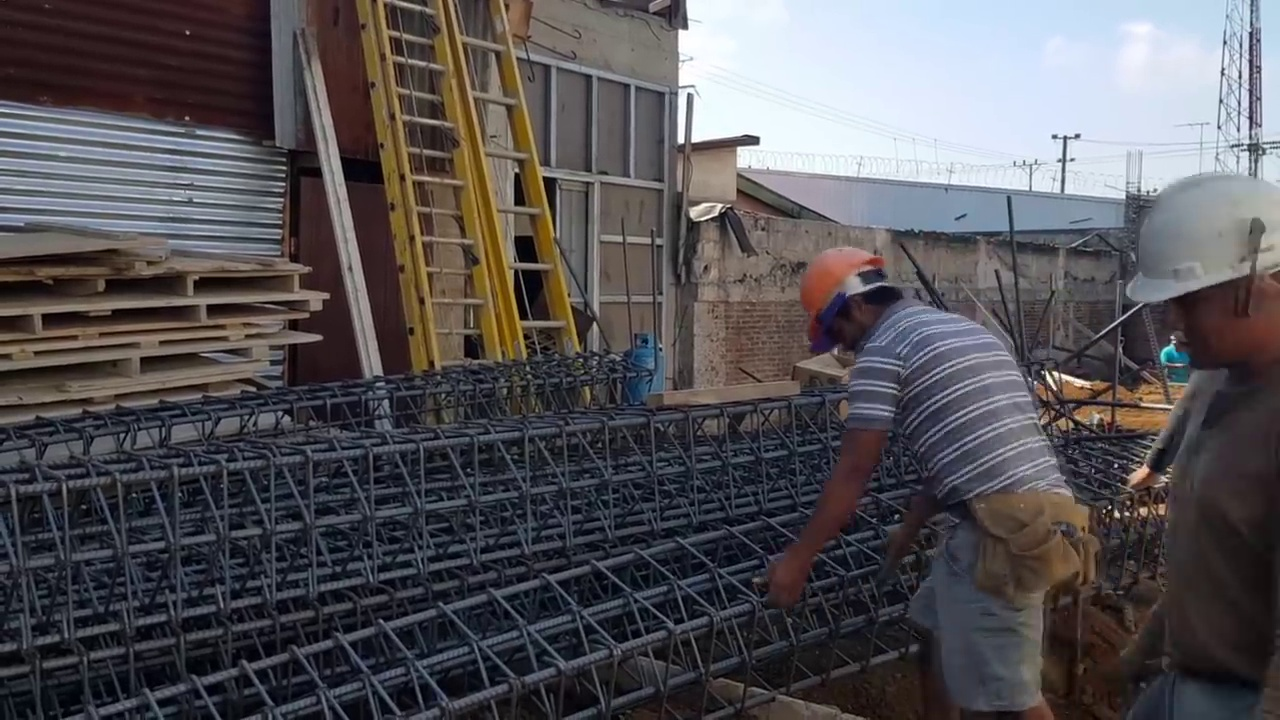helmet: (1122, 179, 1280, 311), (802, 248, 888, 346), (1170, 331, 1187, 344)
helmet-on: (1137, 179, 1280, 392), (793, 252, 906, 365), (1169, 331, 1188, 350)
person: (779, 248, 1082, 706), (1099, 183, 1280, 719), (1160, 330, 1191, 384)
